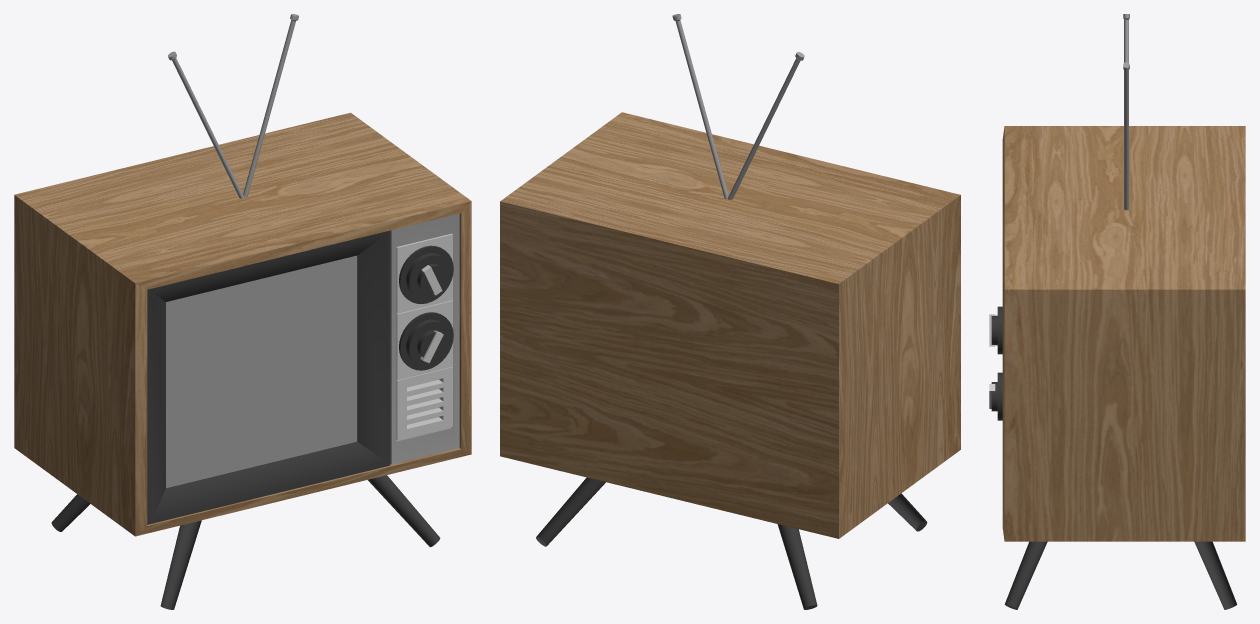
The picture shows the model from 3 angles, left to right: view 1: azimuth 30°, elevation 25°; view 2: azimuth 150°, elevation 25°; view 3: azimuth 270°, elevation 25°; orthographic projection.
Visible parts, largest first — view 1: TV, screen; view 2: TV; view 3: TV.
Part boxes in pixels (x1,y1,x2,y2): TV: [14, 14, 471, 609]; screen: [166, 255, 357, 488]; TV: [500, 14, 960, 609]; TV: [989, 14, 1245, 609].
Size of the model in its own units: 2009 by 2908 by 1329.
Materials: 5 (1 with a texture image).
